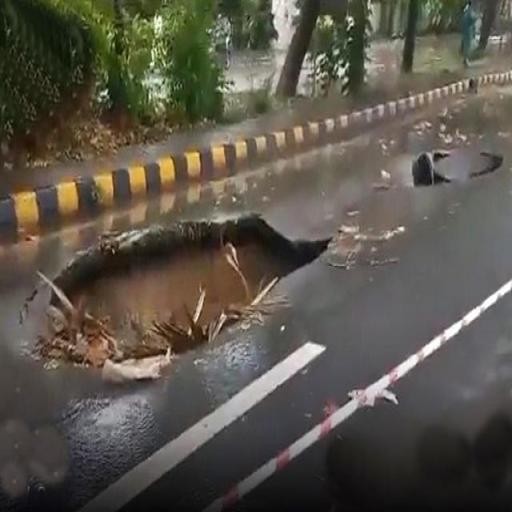Concentric_Crack: (33, 213, 330, 379), (412, 146, 502, 184)
